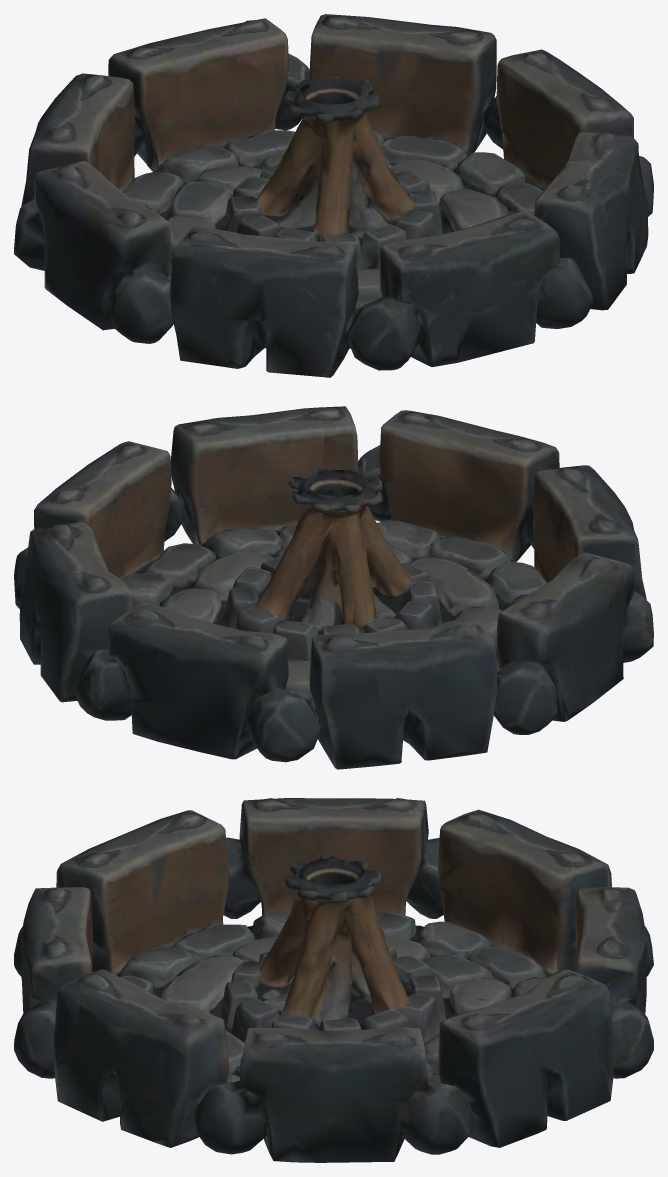
File: campfire.glb
The picture shows the model from 3 angles, top to bottom: view 1: azimuth 30°, elevation 25°; view 2: azimuth 150°, elevation 25°; view 3: azimuth 270°, elevation 25°; orthographic projection. The views are drawn at different scales.
Bounding box in the file's own units: 1.9 × 0.5204 × 1.9.
1 material, 1 textured.
